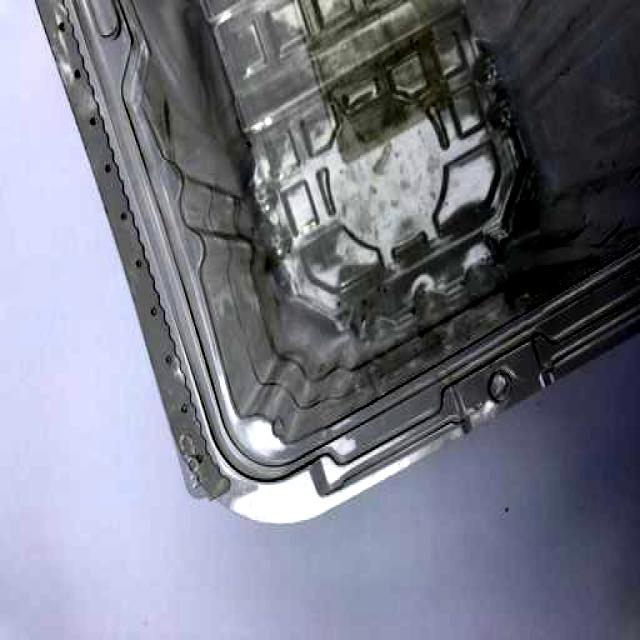Plastic: (20, 0, 640, 538)
